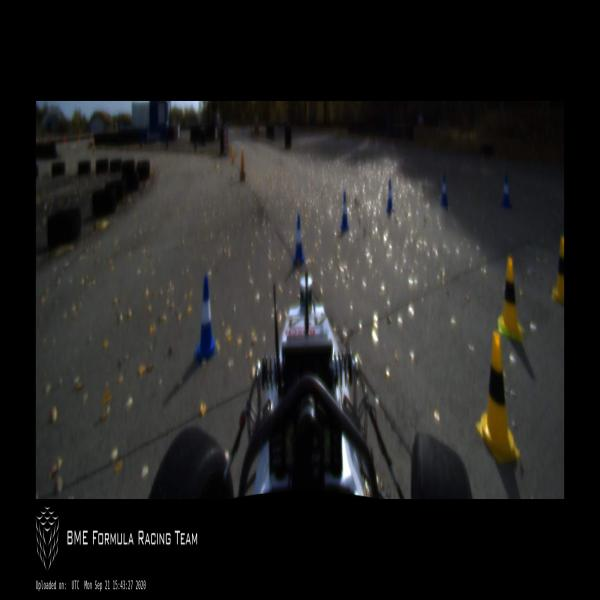blue_cone: (195, 276, 216, 360), (294, 214, 304, 264), (340, 192, 349, 230), (502, 174, 511, 208), (386, 180, 393, 211), (441, 174, 448, 205)
yellow_cone: (476, 332, 520, 462), (498, 257, 523, 342), (552, 237, 564, 302)
